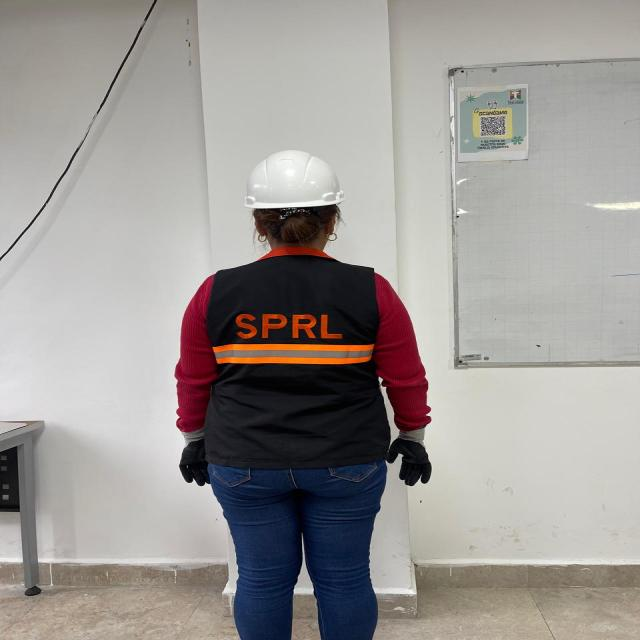gloves: (387, 428, 431, 486), (179, 429, 210, 486)
helmet: (245, 151, 345, 210)
